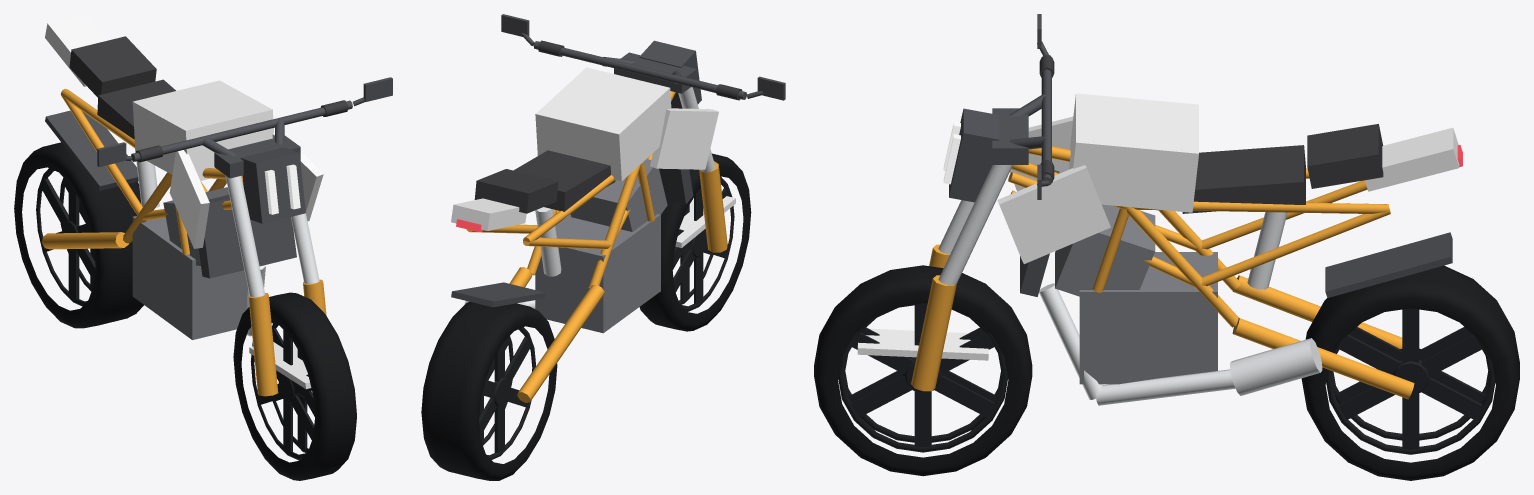
The model's file is ktm_duke390.glb.
3 renders of one model, left to right at view 1: azimuth 30°, elevation 25°; view 2: azimuth 150°, elevation 25°; view 3: azimuth 270°, elevation 25°, orthographic. The views are drawn at different scales.
Visible parts, largest first — view 1: body_trim (×2), tire (×2), body_paint (×2), rim (×4), body_chrome (×2), headlights; view 2: body_trim (×2), tire (×2), body_paint (×2), rim (×4), body_chrome (×2); view 3: body_trim (×2), tire (×2), body_paint (×2), rim (×4), body_chrome (×2).
Boxes of the visible parts, x1,y1,x2,y2 form: body_trim (×2): (42,36,392,396); tire (×2): (14,142,356,480); body_paint (×2): (45,14,323,389); rim (×4): (36,168,314,460); body_chrome (×2): (135,149,319,336); headlights: (264,164,300,214); body_trim (×2): (451,14,785,402); tire (×2): (421,153,751,480); body_paint (×2): (451,67,735,247); rim (×4): (479,176,734,459); body_chrome (×2): (464,87,715,308); body_trim (×2): (911,14,1452,399); tire (×2): (814,265,1519,480); body_paint (×2): (857,93,1459,360); rim (×4): (838,303,1495,454); body_chrome (×2): (938,165,1322,405).
Bounding box in the file's own units: 1.08 × 1.13 × 1.94.
